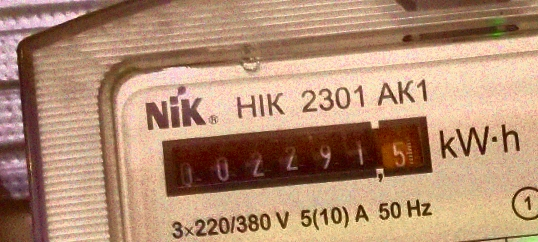0: (175, 156, 196, 187), (212, 152, 232, 183)
1: (350, 135, 368, 170)
2: (247, 148, 266, 178), (282, 142, 299, 172)
5: (389, 137, 408, 168)
9: (316, 140, 335, 171)
screen: (155, 102, 439, 211)
